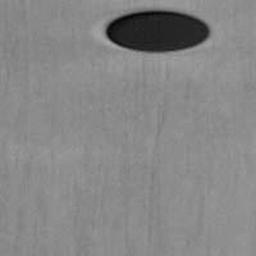Punching: (105, 10, 210, 55)
